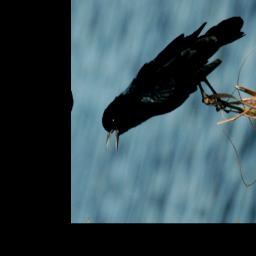Crow: (95, 0, 254, 179)
